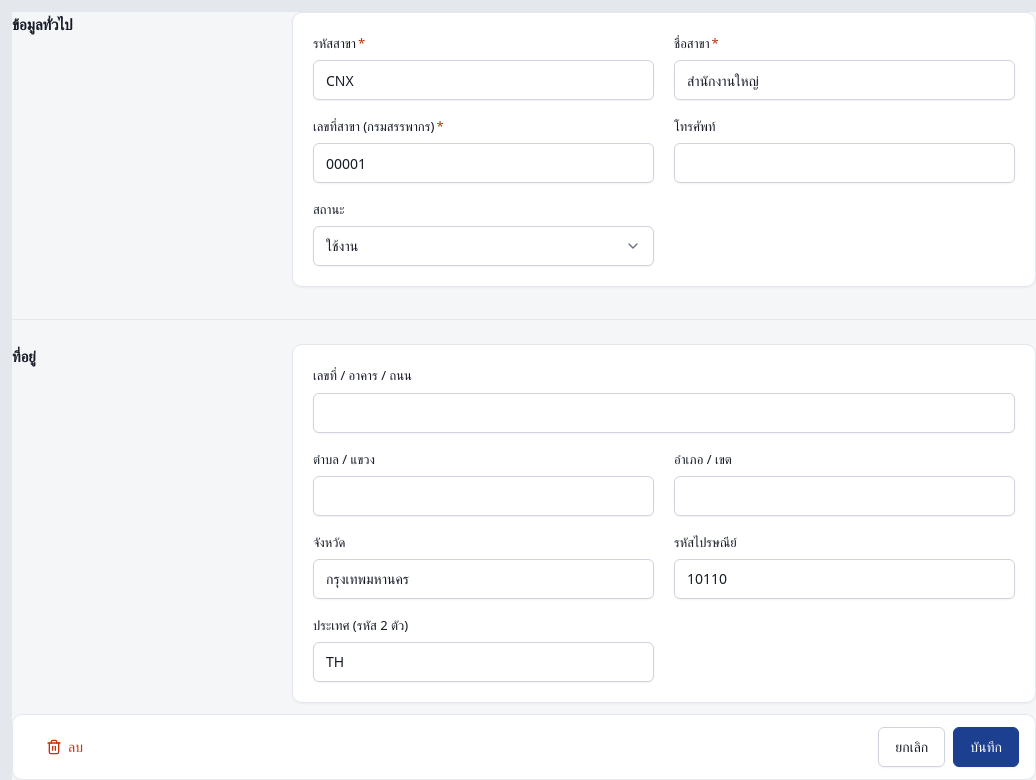
Scenario: BranchForm › ลบสาขา (ยืนยันก่อน) — backend ปฏิเสธ = แสดงข้อความจาก config
Click the button "ลบ" at (64, 747), box [29, 727, 100, 767]
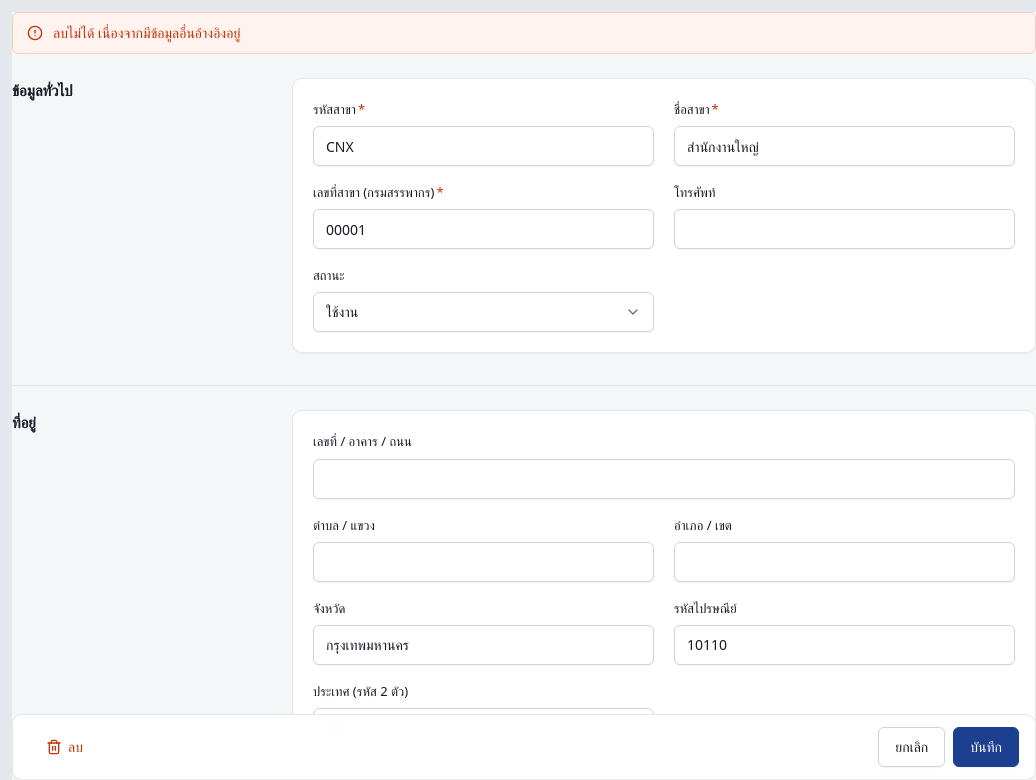
Expected: the message reads "ลบไม่ได้ เนื่องจากมีข้อมูลอื่นอ้างอิงอยู่", [53, 23, 240, 42]
